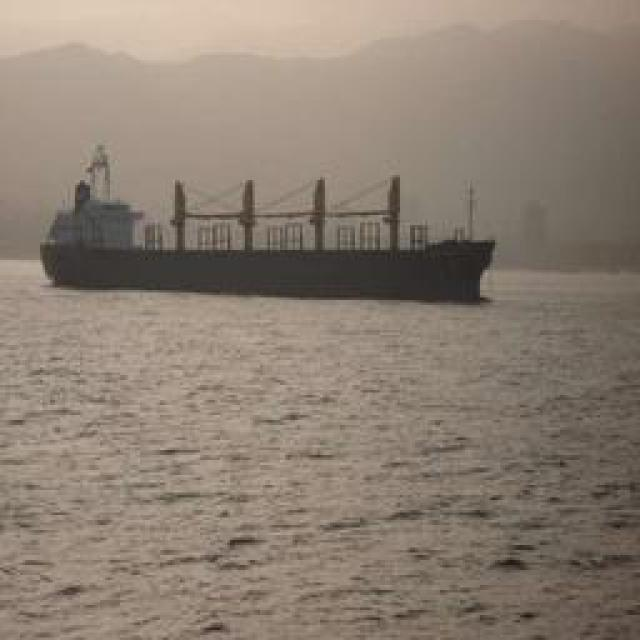Ship: (39, 171, 492, 301)
